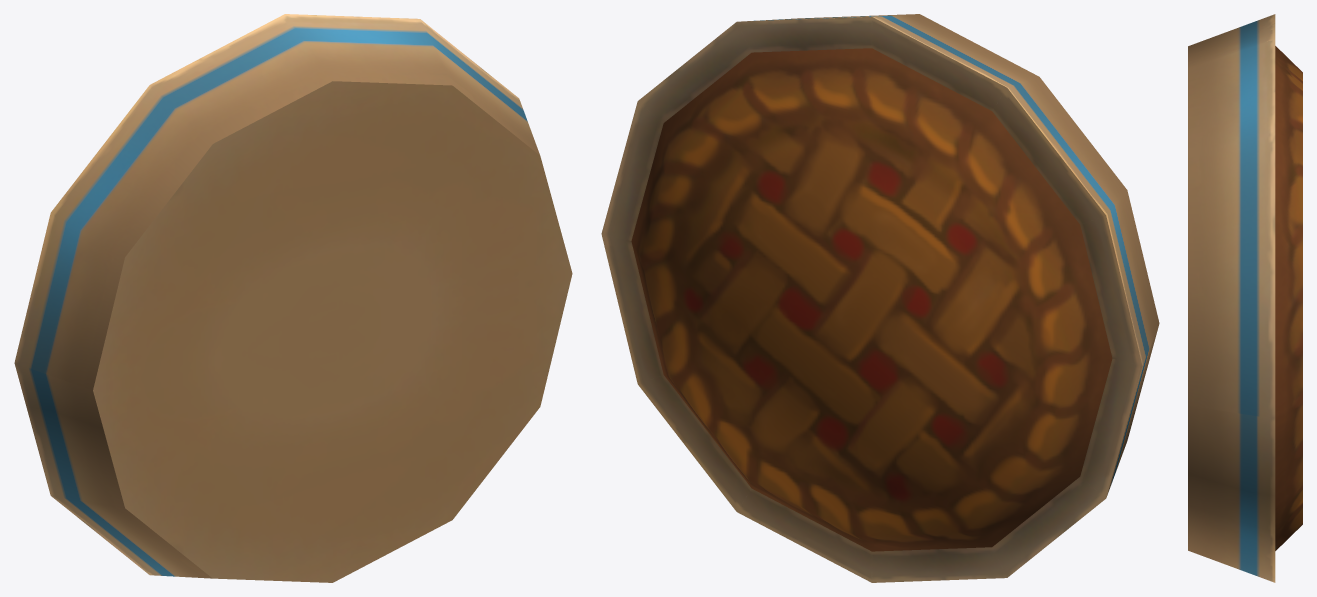
The model's file is Food_pie.fbx.
3 renders of one model, left to right at view 1: azimuth 30°, elevation 25°; view 2: azimuth 150°, elevation 25°; view 3: azimuth 270°, elevation 25°, orthographic. The views are drawn at different scales.
Parts seen in each view (by area): view 1: Food_pie; view 2: Food_pie; view 3: Food_pie.
Part boxes in pixels (x1,y1,x2,y2): Food_pie: (14, 14, 572, 582); Food_pie: (601, 14, 1159, 582); Food_pie: (1188, 14, 1302, 582).
Bounding box in the file's own units: 0.4185 × 0.4185 × 0.0843.
